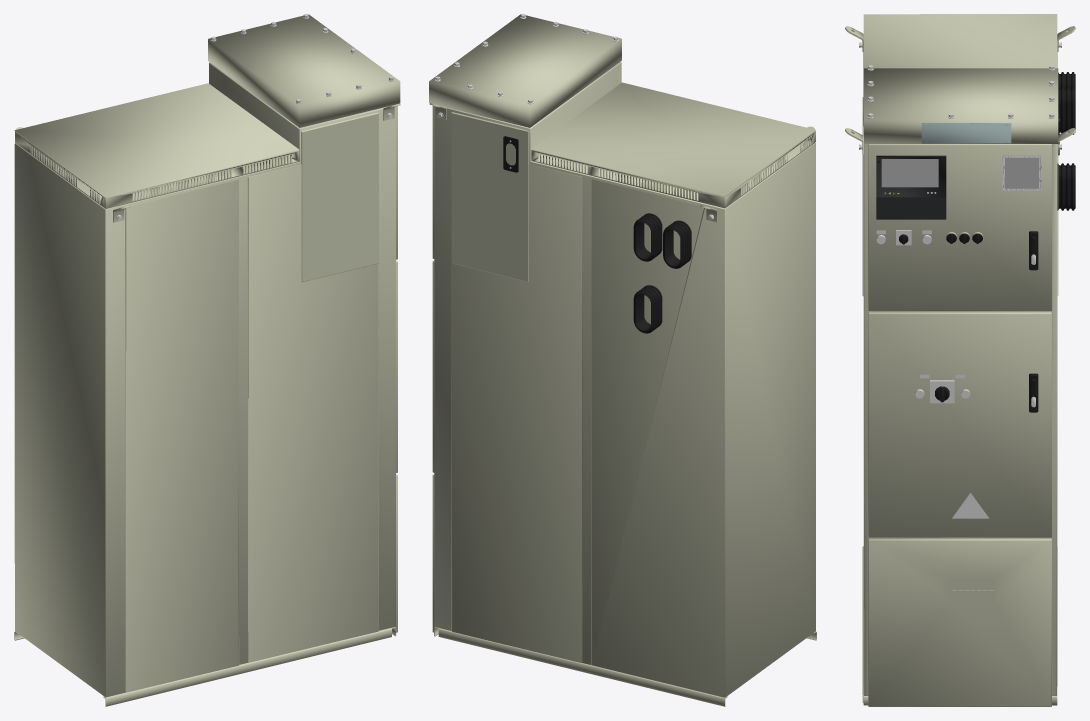
Rendered from Element_rigth.fbx.
3 renders of one model, left to right at view 1: azimuth 30°, elevation 25°; view 2: azimuth 150°, elevation 25°; view 3: azimuth 270°, elevation 25°, orthographic. The views are drawn at different scales.
Parts seen in each view (by area): view 1: Шкаф; view 2: Шкаф, Накладки шин; view 3: Шкаф, Подпись шкафа, Накладки шин, Табло, Часть экрана, Экран, Амперметр, Предупреждающий знак, Подложка амперметра, Куб под вкл\откл элемента.
Boxes of the visible parts, box(x1,y1,x2,y2) form: Шкаф: box(14, 14, 400, 706); Шкаф: box(429, 14, 816, 706); Накладки шин: box(633, 213, 691, 333); Шкаф: box(845, 14, 1075, 706); Подпись шкафа: box(921, 123, 1011, 143); Накладки шин: box(1057, 72, 1075, 210); Табло: box(881, 159, 938, 187); Часть экрана: box(876, 197, 946, 219); Экран: box(876, 155, 946, 197); Амперметр: box(1005, 158, 1038, 188); Предупреждающий знак: box(952, 493, 989, 518); Подложка амперметра: box(1002, 155, 1041, 191); Куб под вкл\откл элемента: box(930, 380, 954, 403).
Size of the model in its own units: 143 by 251 by 88.94.
